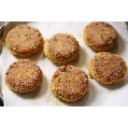cutlet: (6, 59, 42, 94), (52, 66, 88, 100), (91, 52, 127, 84), (7, 24, 41, 57), (43, 31, 80, 61), (85, 22, 118, 50)
